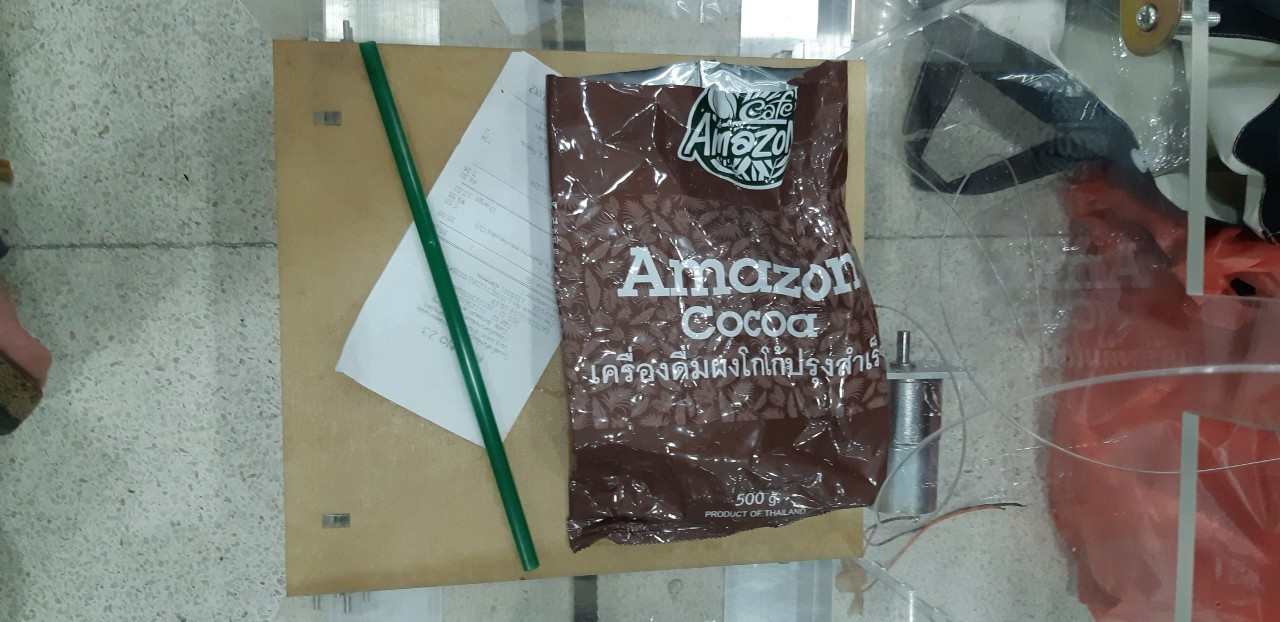Others: (547, 60, 889, 549), (356, 38, 539, 571), (337, 33, 557, 454)
